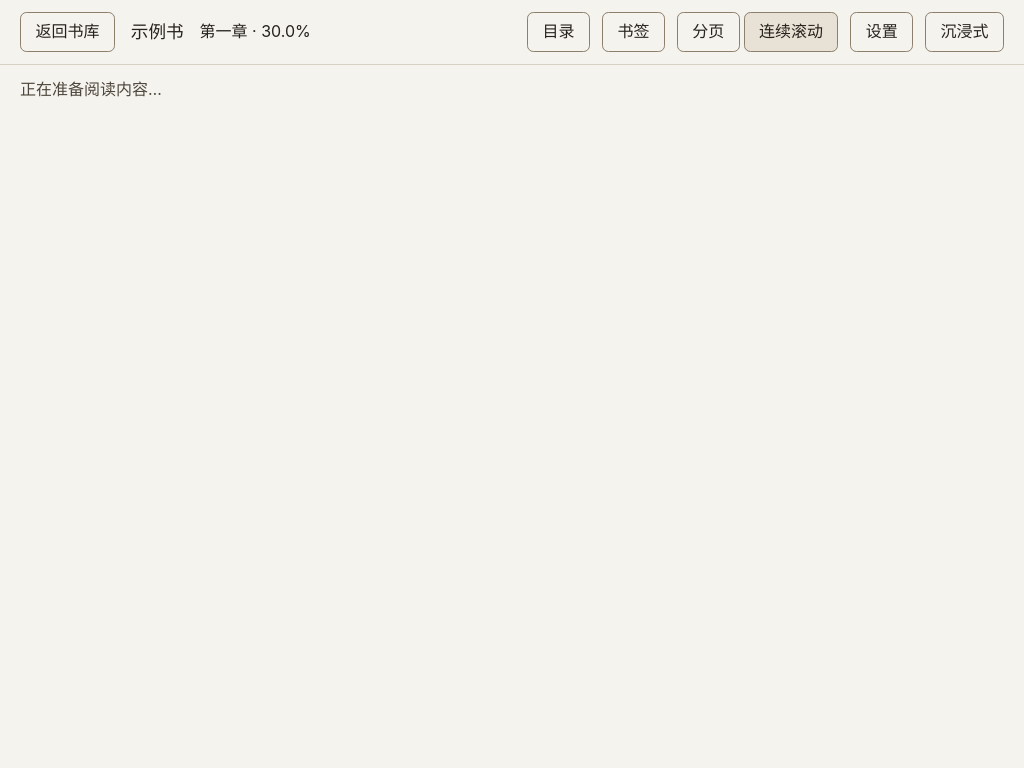
Scenario: ReaderShell › renders nested toc entries as parent/child DOM structure
The width and height of the screenshot is (1024, 768).
Click the button with aria-label "打开目录". click: (559,32)
box: [527, 12, 590, 52]
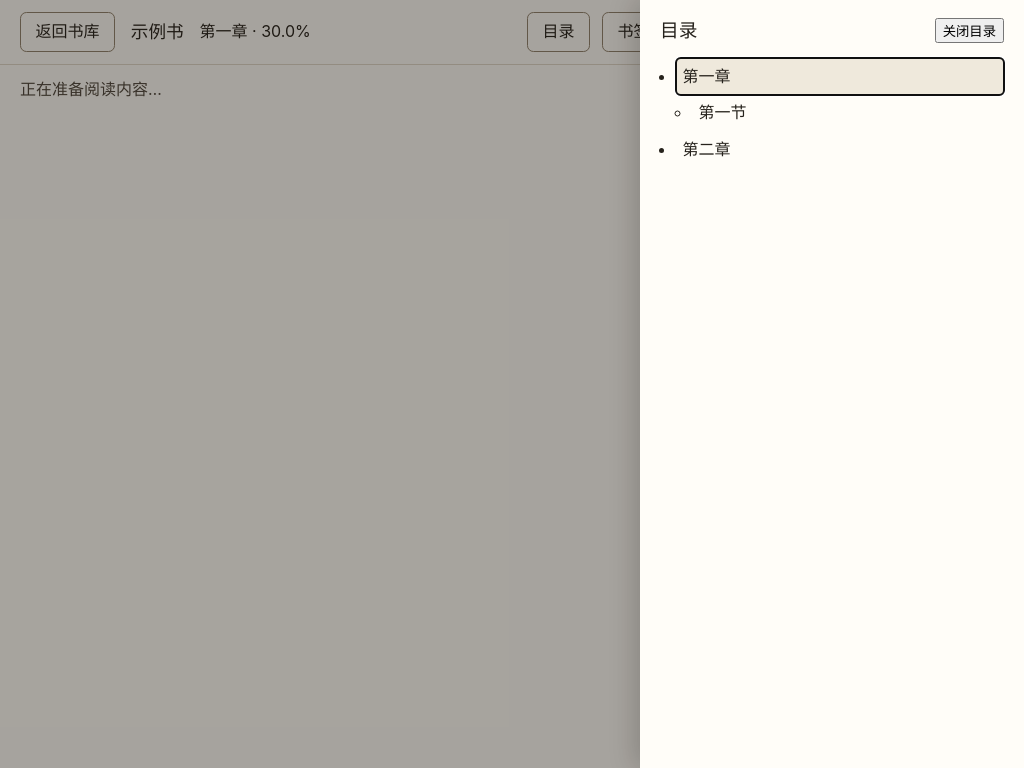
Result: the button "第一章" is shown at [676, 58, 1004, 95]
Result: the button "第一节" is shown at [692, 95, 1004, 132]
Result: the button "第二章" is shown at [676, 132, 1004, 168]
